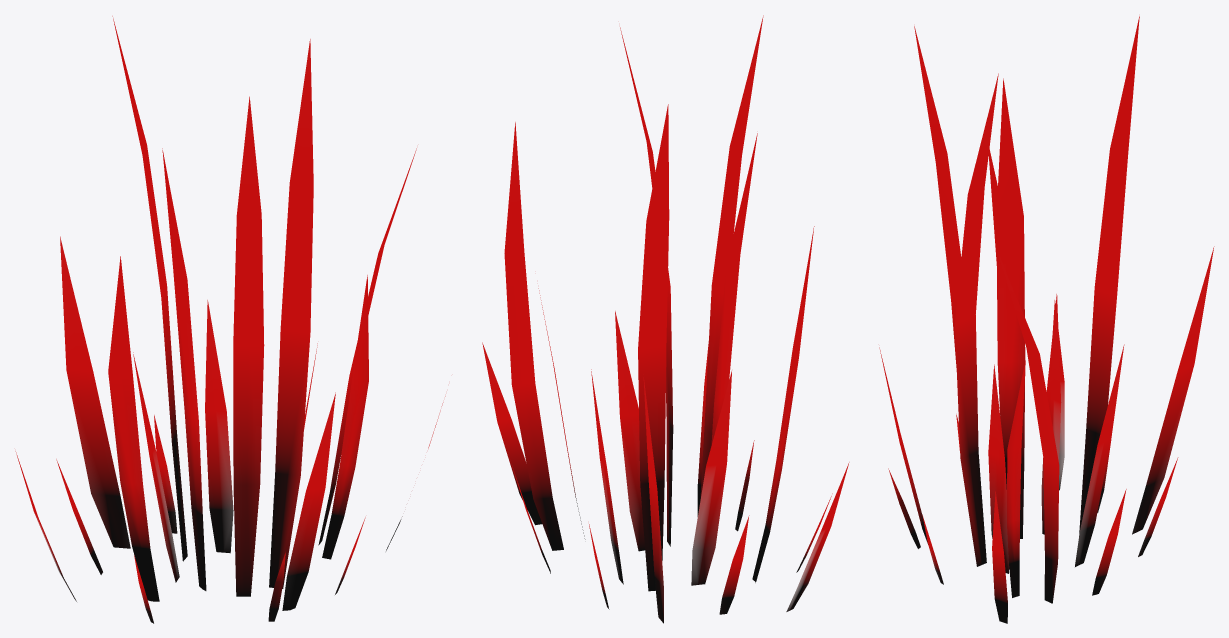
Rendered from Grass4.fbx.
3 views of the same model, side by side, from view 1: azimuth 30°, elevation 25°; view 2: azimuth 150°, elevation 25°; view 3: azimuth 270°, elevation 25° (orthographic). The views are drawn at different scales.
Parts seen in each view (by area): view 1: Plane.001; view 2: Plane.001; view 3: Plane.001.
Part boxes in pixels (box(x1,y1,x2,y2)): Plane.001: box(15, 16, 445, 623); Plane.001: box(482, 15, 849, 623); Plane.001: box(879, 16, 1214, 623).
Size of the model in its own units: 59.43 by 100 by 80.11.
